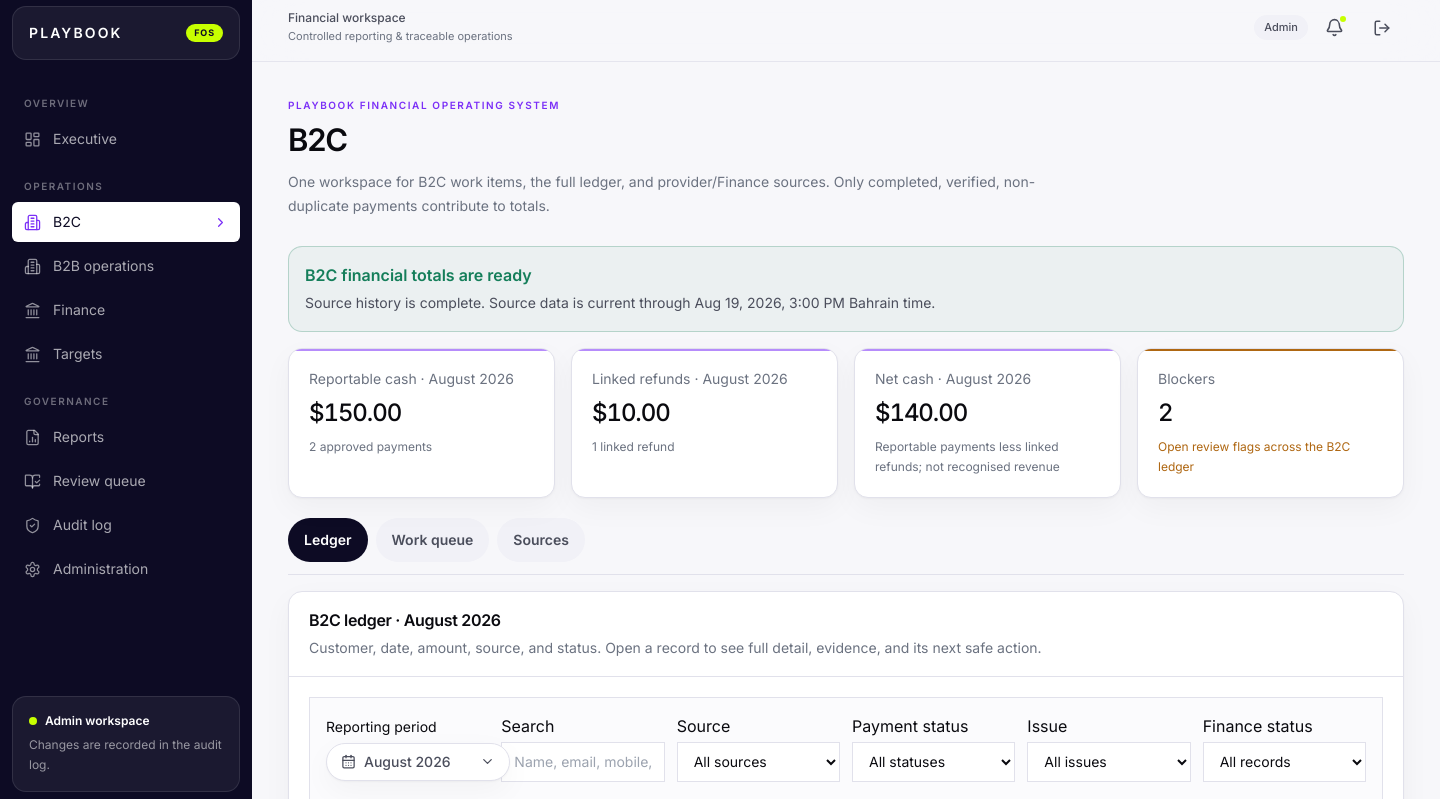
it: Ledger › downloads the current Admin filters and explains when the CSV is capped
This screenshot has width=1440, height=799.
Select "Stripe" in the dropdown labelled "Source": (758, 762) left=677, top=742, right=840, bottom=782
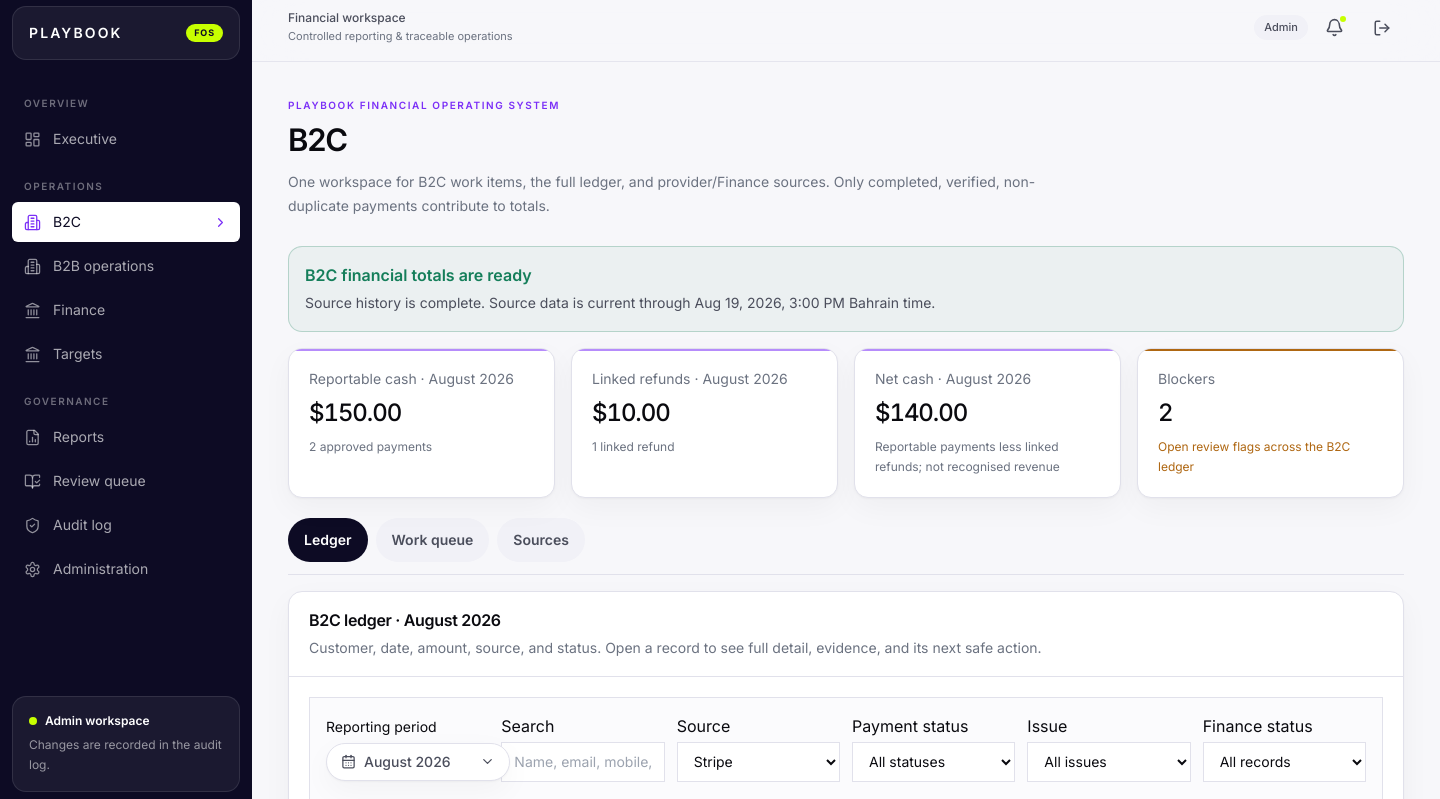
In the field with placeholder "Name, email, mobile, or ID": (583, 762) left=501, top=742, right=665, bottom=782, type "Maya"
(page scrolled)
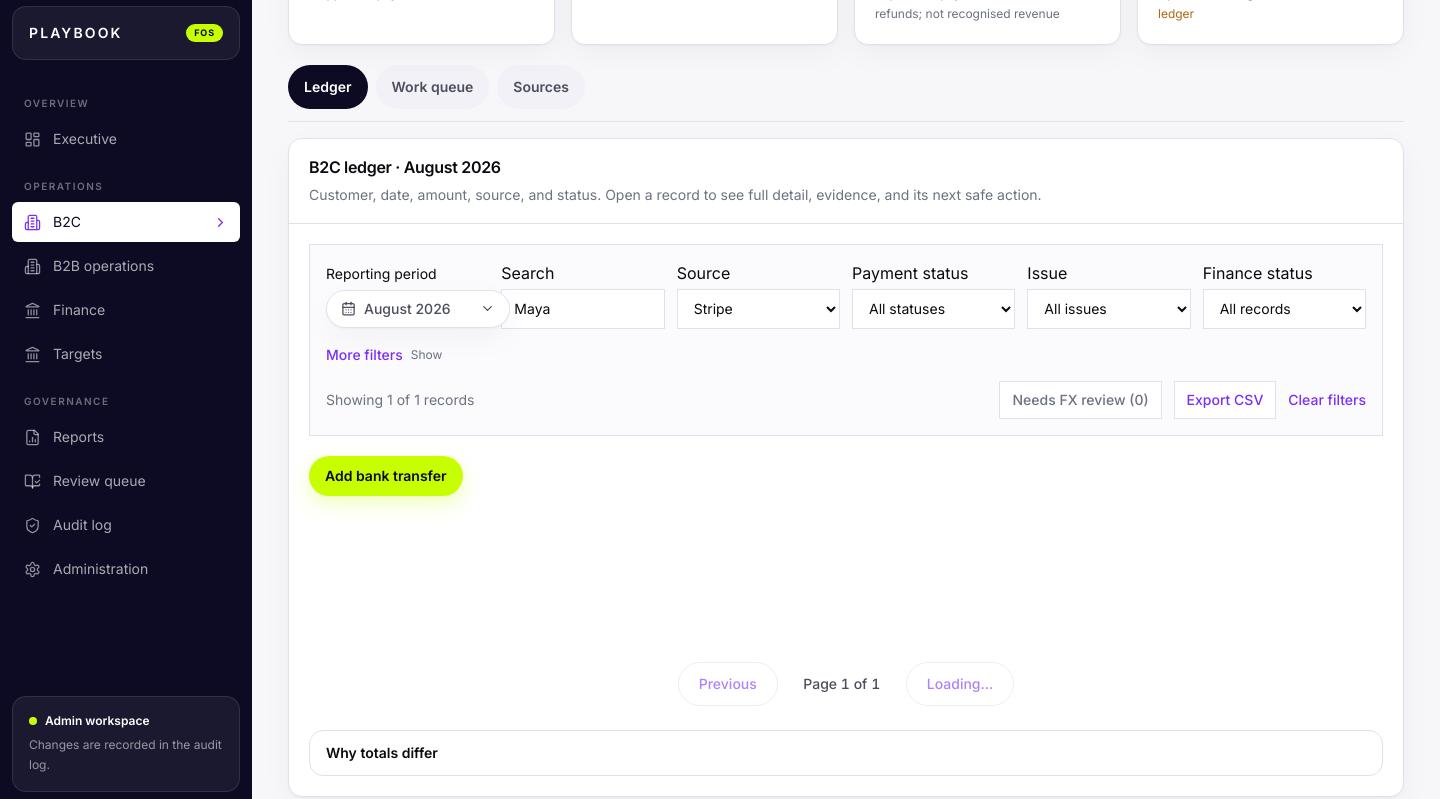
Click the button "Export CSV": click(1225, 400) left=1174, top=381, right=1276, bottom=419
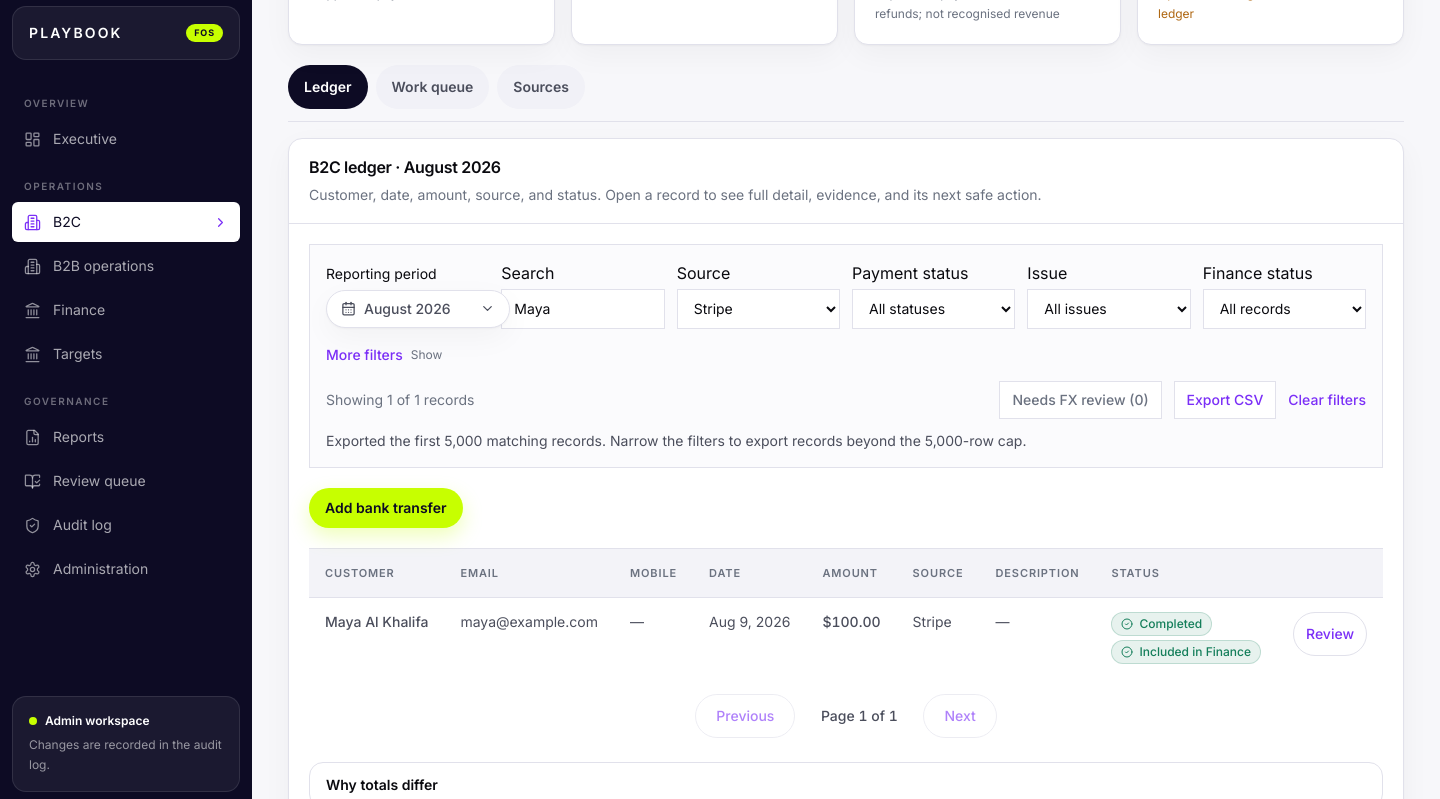
Now the message shows "first 5,000 matching records", box left=326, top=432, right=1026, bottom=449
